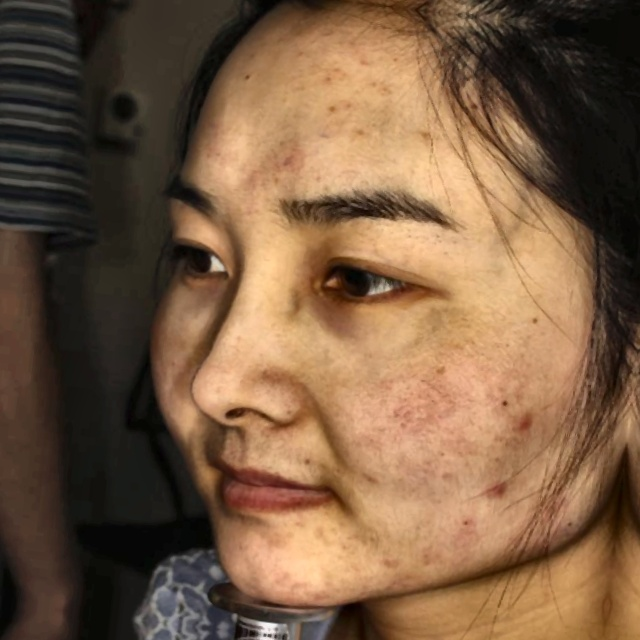comedone: (483, 475, 516, 511), (516, 408, 541, 435)
